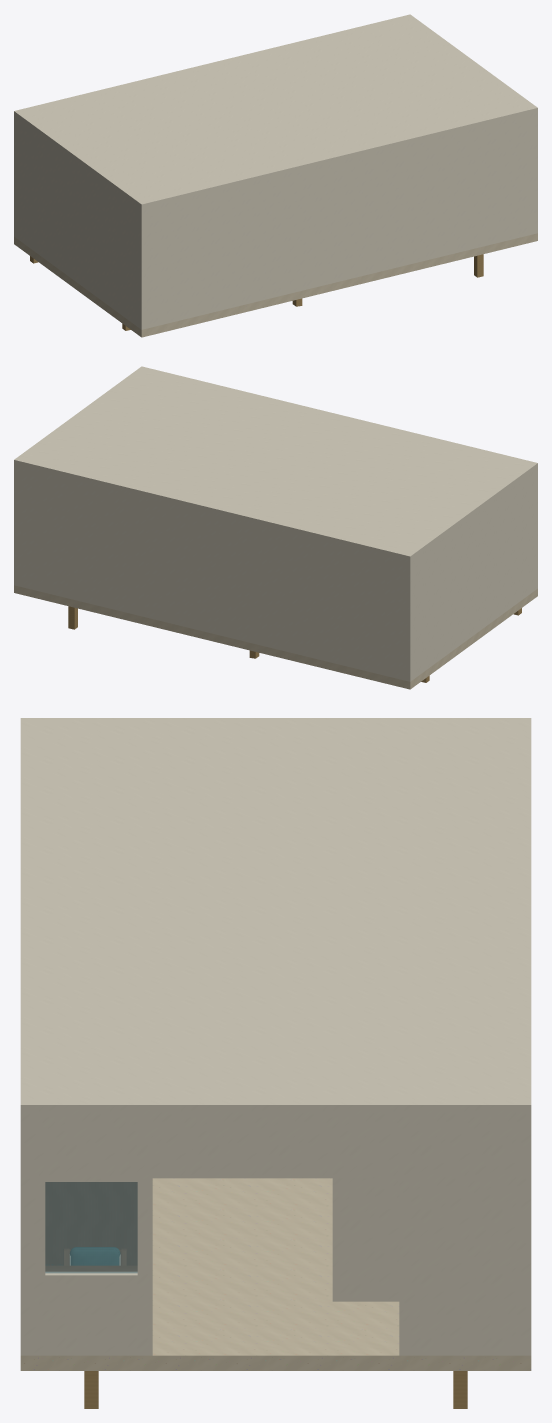
File: StarAtlasSpecialty_425.glb
3 views of the same model, one above another, from view 1: azimuth 30°, elevation 25°; view 2: azimuth 150°, elevation 25°; view 3: azimuth 270°, elevation 25° (orthographic). The views are drawn at different scales.
Visible parts, largest first — view 1: SA425_Ceiling, SA425_NorthSide, SA425_OpaqueRearBoundary, SA425_RoomFloor; view 2: SA425_Ceiling, SA425_SouthSide, SA425_OpaqueRearBoundary, SA425_RoomFloor; view 3: SA425_Ceiling, SA425_RoomFloor, SA425_EntryShoulderSouth, SA425_EntryHeader, SA425_StreetWindowLower, SA425_ScreenedStreetGlass, SA425_WashEntrySide, SA425_StreetWindowUpper, SA425_EntryPrivacyDogleg, SA425_NorthSide, SA425_SouthSide, SA425_StreetWindowOuterPier (+2 smaller).
Part boxes in pixels (box(x1,y1,x2,y2)): SA425_Ceiling: box(14, 14, 537, 209); SA425_NorthSide: box(139, 113, 537, 329); SA425_OpaqueRearBoundary: box(16, 118, 139, 327); SA425_RoomFloor: box(14, 233, 537, 337); SA425_Ceiling: box(14, 366, 537, 561); SA425_SouthSide: box(14, 465, 412, 681); SA425_OpaqueRearBoundary: box(412, 470, 535, 679); SA425_RoomFloor: box(14, 585, 537, 689); SA425_Ceiling: box(20, 718, 531, 1115); SA425_RoomFloor: box(20, 1178, 531, 1370); SA425_EntryShoulderSouth: box(399, 1115, 522, 1355); SA425_EntryHeader: box(148, 1115, 403, 1178); SA425_StreetWindowLower: box(29, 1272, 152, 1355); SA425_ScreenedStreetGlass: box(45, 1182, 137, 1273); SA425_WashEntrySide: box(332, 1178, 399, 1301); SA425_StreetWindowUpper: box(29, 1115, 152, 1181); SA425_EntryPrivacyDogleg: box(45, 1182, 137, 1265); SA425_NorthSide: box(20, 1115, 28, 1355); SA425_SouthSide: box(523, 1115, 531, 1355); SA425_StreetWindowOuterPier: box(29, 1182, 45, 1275).
Size of the model in its own units: 12.9 by 5.31 by 7.2.
Materials: 64 (49 with a texture image).
